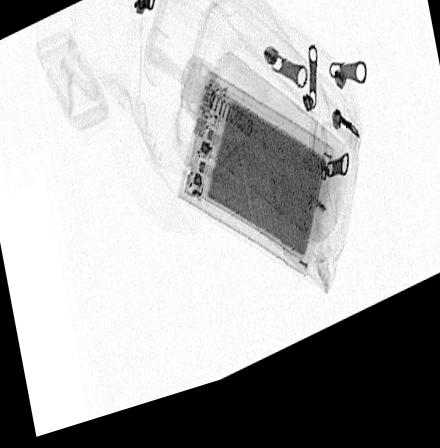Powerbank: (176, 82, 335, 296)
